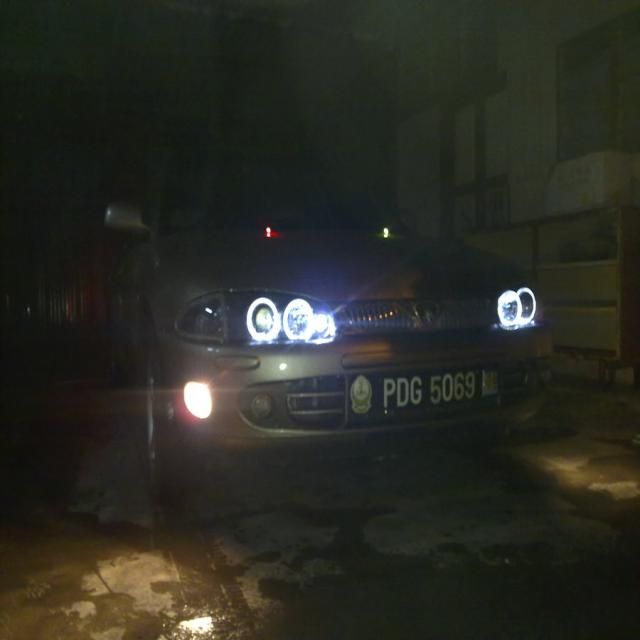Table: (477, 159, 640, 392)
car: (103, 118, 585, 515)
